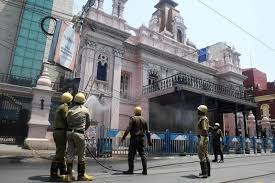mask: (213, 122, 219, 127)
